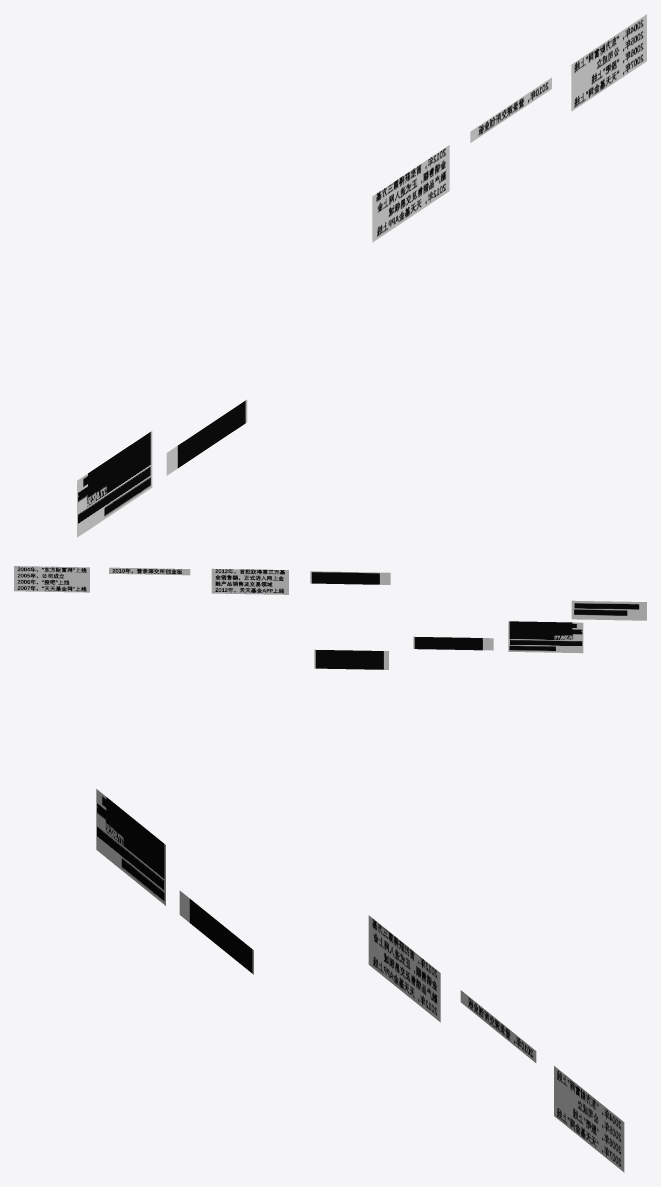
Rendered from CD_JZ_dongfangcai_develop02.FBX.
The picture shows the model from 3 angles, top to bottom: view 1: azimuth 30°, elevation 25°; view 2: azimuth 150°, elevation 25°; view 3: azimuth 270°, elevation 25°; orthographic projection. The views are drawn at different scales.
Visible parts, largest first — view 1: CD_JZ_dongfangcai_develop02; view 2: CD_JZ_dongfangcai_develop02; view 3: CD_JZ_dongfangcai_develop02.
Part boxes in pixels (x1,y1,x2,y2): CD_JZ_dongfangcai_develop02: [77, 14, 646, 537]; CD_JZ_dongfangcai_develop02: [14, 566, 646, 669]; CD_JZ_dongfangcai_develop02: [96, 789, 624, 1172].
Bounding box in the file's own units: 1475 × 284 × 773.
